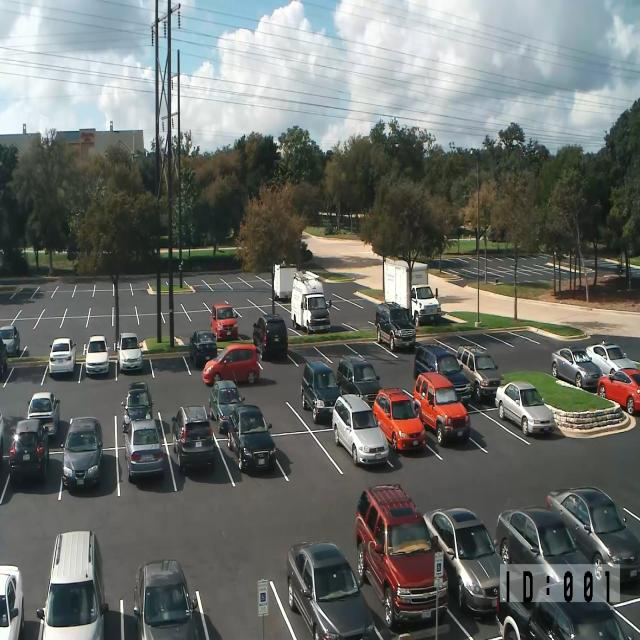car: (356, 483, 448, 630), (494, 506, 604, 605), (546, 485, 640, 583), (286, 540, 376, 640), (423, 507, 504, 617), (36, 530, 109, 639), (496, 584, 635, 639), (133, 559, 210, 639), (413, 371, 471, 446), (332, 393, 388, 466), (413, 342, 472, 402), (372, 388, 426, 452), (494, 381, 556, 436), (227, 404, 276, 472), (60, 416, 103, 489), (171, 405, 215, 473), (456, 344, 503, 402), (300, 360, 342, 424), (8, 418, 49, 482), (123, 417, 164, 481), (202, 343, 260, 386), (336, 355, 382, 408), (551, 346, 604, 391), (208, 379, 246, 434), (596, 368, 640, 415), (375, 301, 416, 351), (586, 340, 639, 377), (0, 564, 24, 640), (121, 381, 154, 434), (252, 314, 288, 361), (26, 391, 60, 438), (410, 284, 441, 327), (610, 596, 640, 640), (83, 335, 110, 376), (210, 302, 238, 341), (116, 332, 143, 372), (189, 330, 217, 368), (49, 337, 76, 375), (0, 410, 15, 466), (0, 324, 20, 356), (0, 338, 7, 376), (0, 410, 4, 465), (299, 236, 308, 251)
